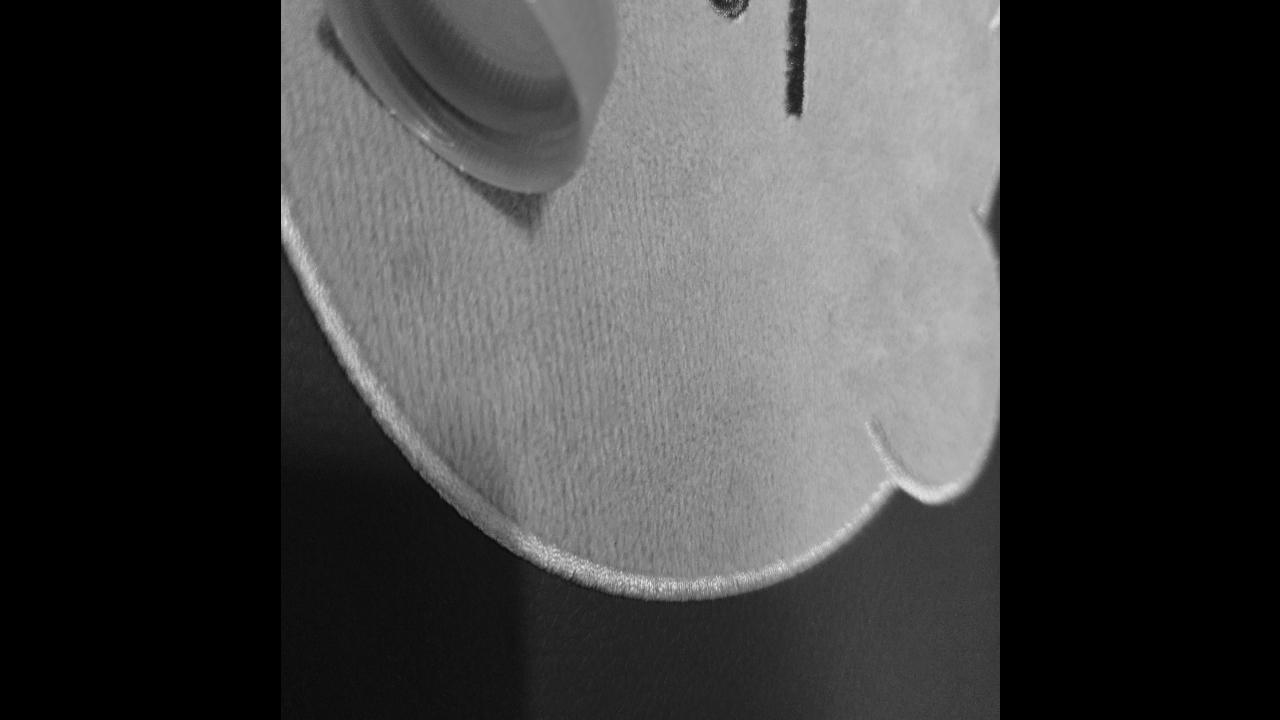bottle_cap: (305, 0, 627, 206)
